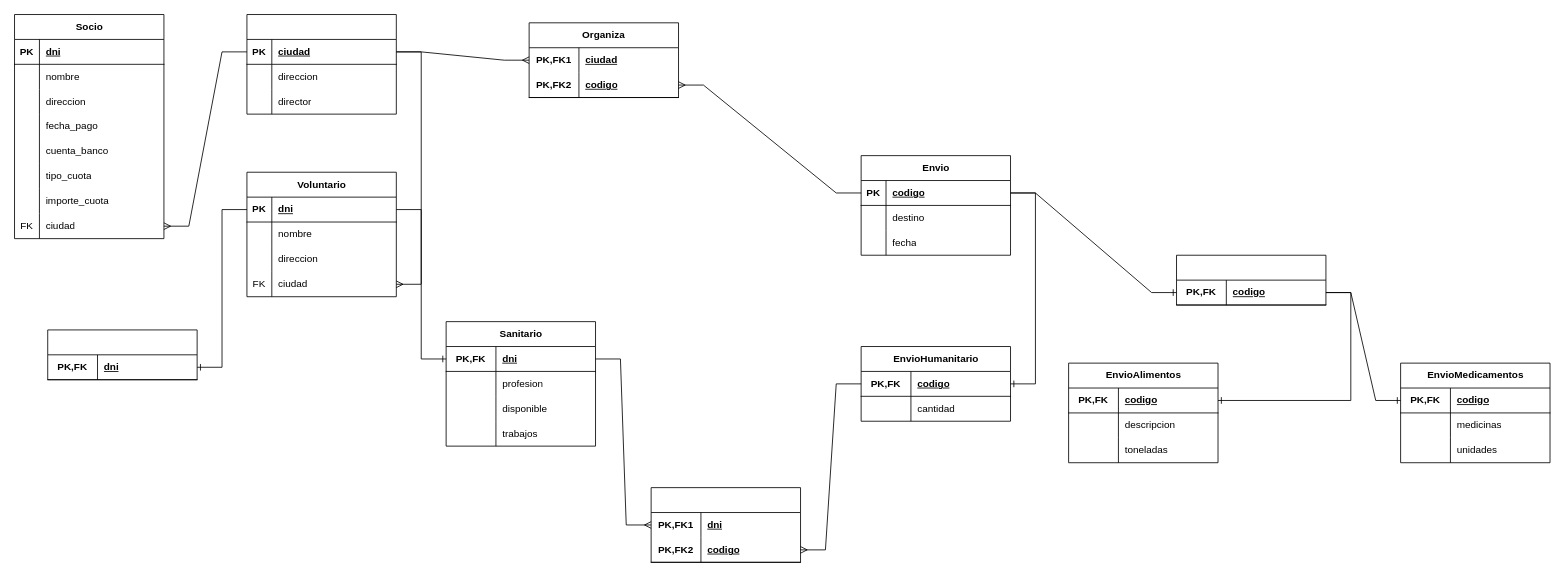
Image size: 1565x577. Some labels were removed from this diagram. The shapes that lost their labels are listed below. From the top down, each one's box as (x1, y1, x2, y2) in pixels, then its label:
(246, 14, 396, 114): Sede
(1176, 254, 1326, 305): EnvioMaterial
(47, 329, 197, 380): Administrativo
(650, 487, 801, 562): Realiza
